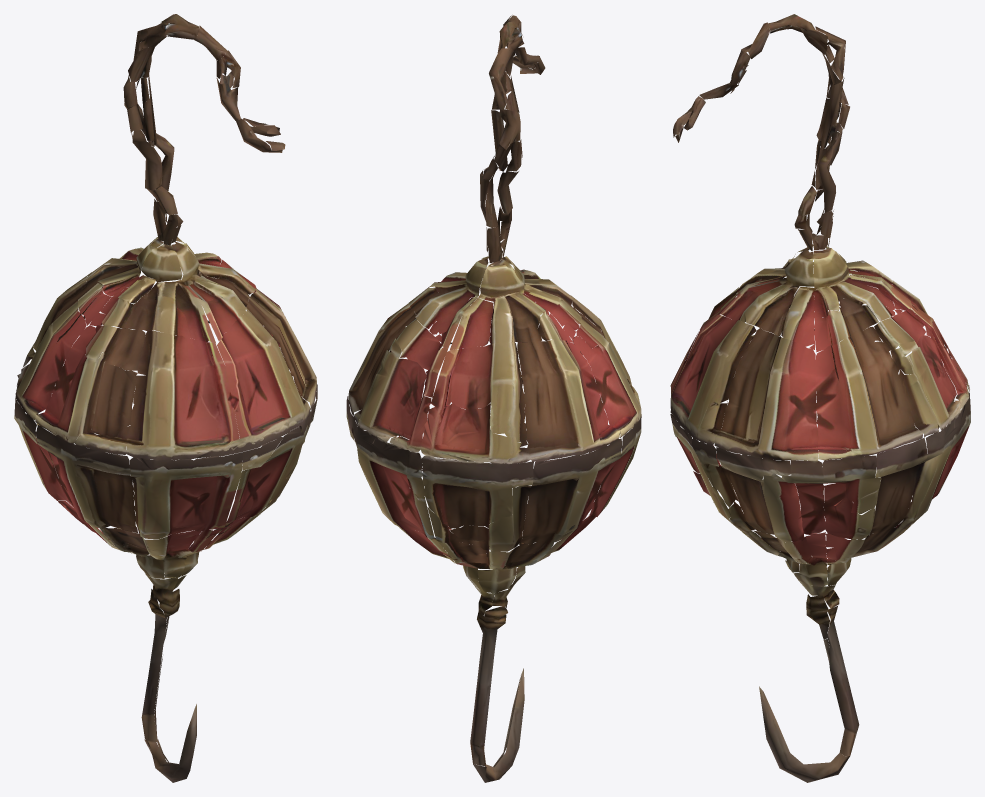
Rendered from fishingbobber.glb.
The picture shows the model from 3 angles, left to right: view 1: azimuth 30°, elevation 25°; view 2: azimuth 150°, elevation 25°; view 3: azimuth 270°, elevation 25°; orthographic projection. The views are drawn at different scales.
Parts seen in each view (by area): view 1: tripo_node_0c3436c8-a9d5-4a06-b7bc-4254f539f651; view 2: tripo_node_0c3436c8-a9d5-4a06-b7bc-4254f539f651; view 3: tripo_node_0c3436c8-a9d5-4a06-b7bc-4254f539f651.
Part boxes in pixels (bbox=[...]): tripo_node_0c3436c8-a9d5-4a06-b7bc-4254f539f651: bbox=[14, 14, 317, 782]; tripo_node_0c3436c8-a9d5-4a06-b7bc-4254f539f651: bbox=[346, 15, 641, 782]; tripo_node_0c3436c8-a9d5-4a06-b7bc-4254f539f651: bbox=[670, 14, 970, 782].
Bounding box in the file's own units: 0.3635 × 1.02 × 0.3641.
Materials: 1 (1 with a texture image).
